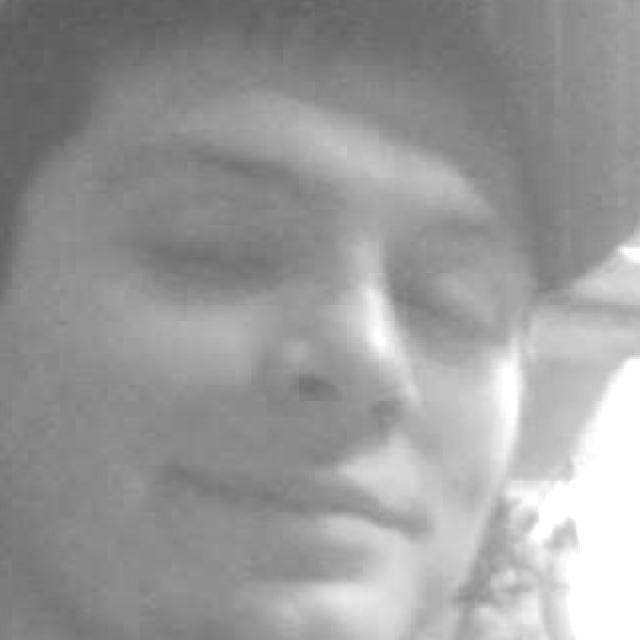real: (7, 25, 525, 640), (126, 192, 510, 352)
